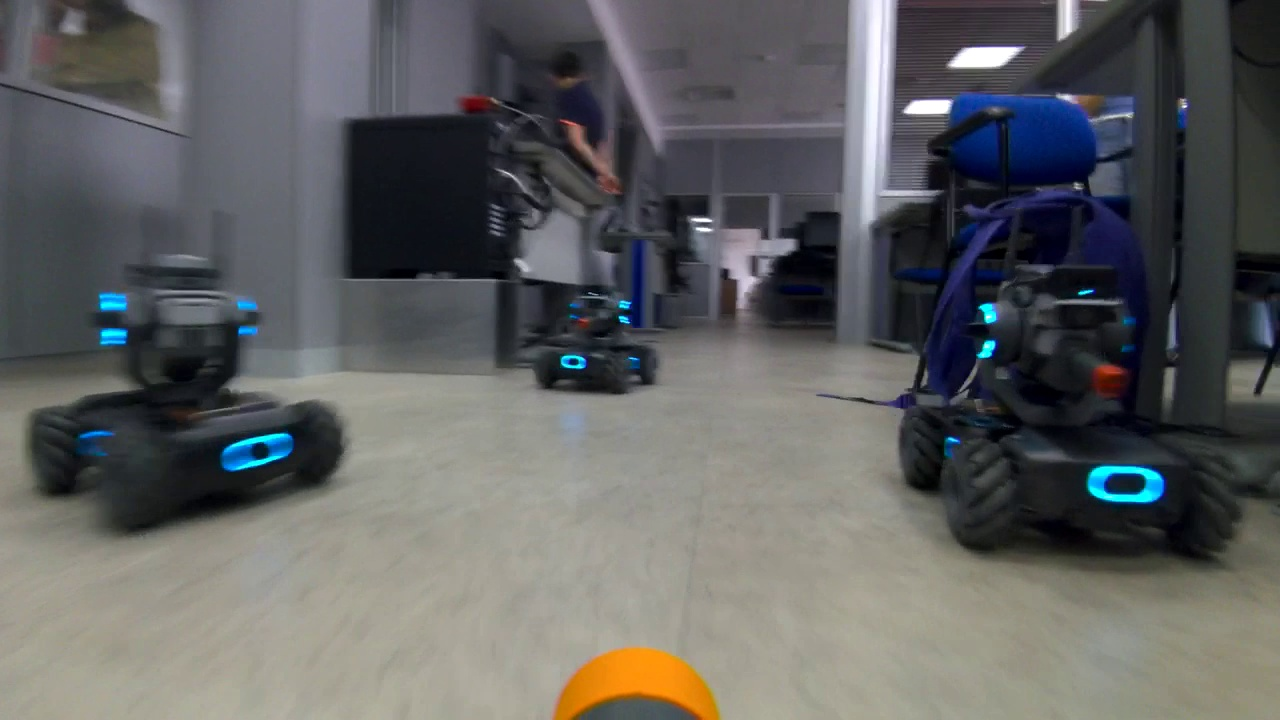robot: (885, 181, 1244, 556), (24, 197, 348, 528), (533, 275, 659, 396)
